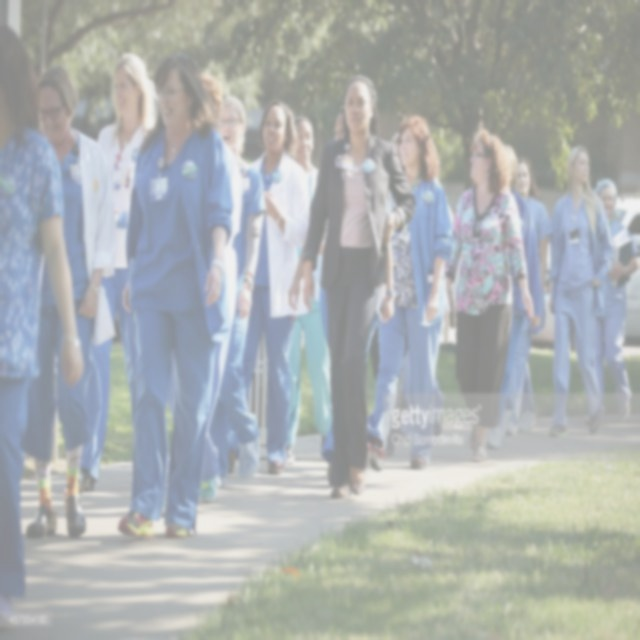pessoa: (115, 50, 236, 542), (0, 17, 86, 636), (300, 72, 419, 501), (21, 63, 118, 538), (62, 51, 159, 502), (159, 71, 245, 516), (438, 124, 536, 464), (225, 96, 312, 478), (366, 112, 456, 474), (206, 96, 268, 484), (545, 143, 615, 440), (484, 142, 544, 450), (285, 114, 334, 464), (288, 104, 348, 350), (584, 177, 640, 426), (506, 156, 555, 434), (368, 348, 444, 466), (439, 200, 469, 345), (369, 318, 413, 349), (391, 130, 406, 174)
